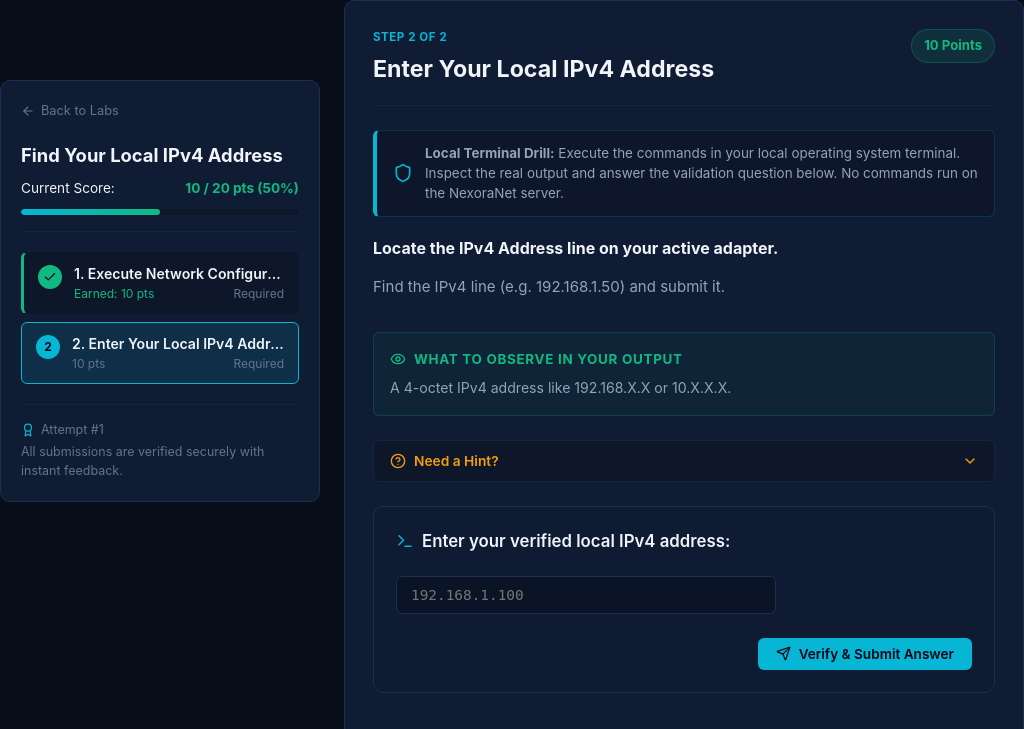
Scenario: Step 4 — Hands-on Networking Lab Engine › Pages Integration › LabDetailPage provisions workspace and submits answer
Expected: the heading "Enter Your Local IPv4 Address" is shown, [373,52,714,87]
Enter answer in input
Type "192.168.1.50" into the field with placeholder "192.168.1.100". click: {"x": 586, "y": 595}
box: [396,576,776,614]
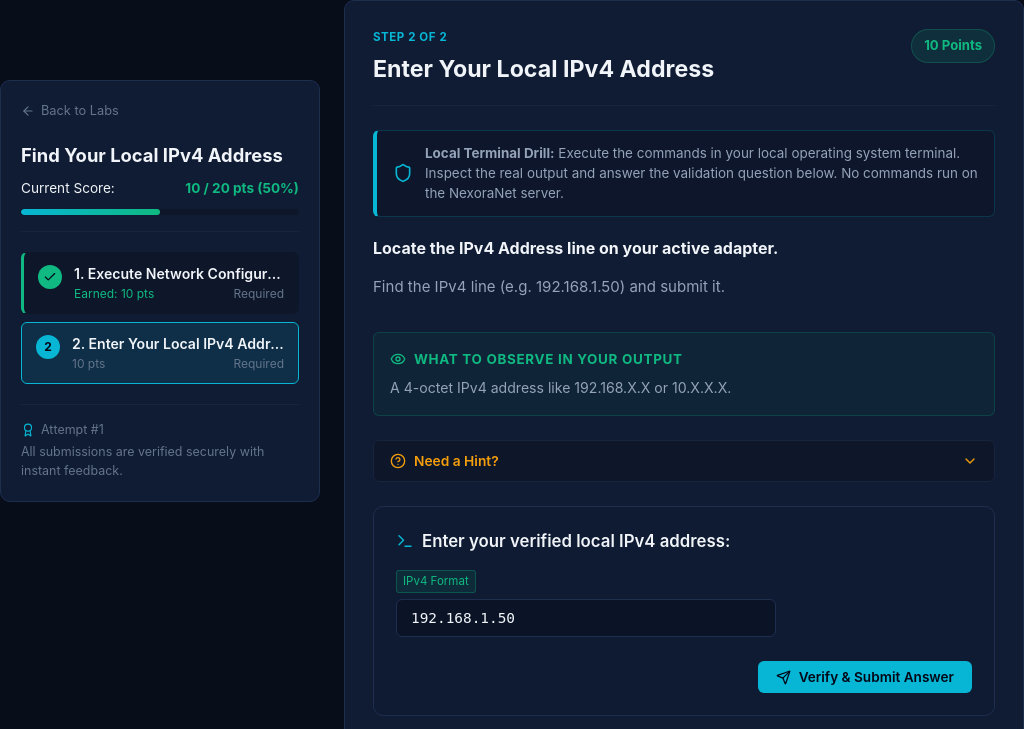
Submit an answer
Click the button "Verify & Submit Answer". click: {"x": 865, "y": 677}
box: [758,661,972,693]
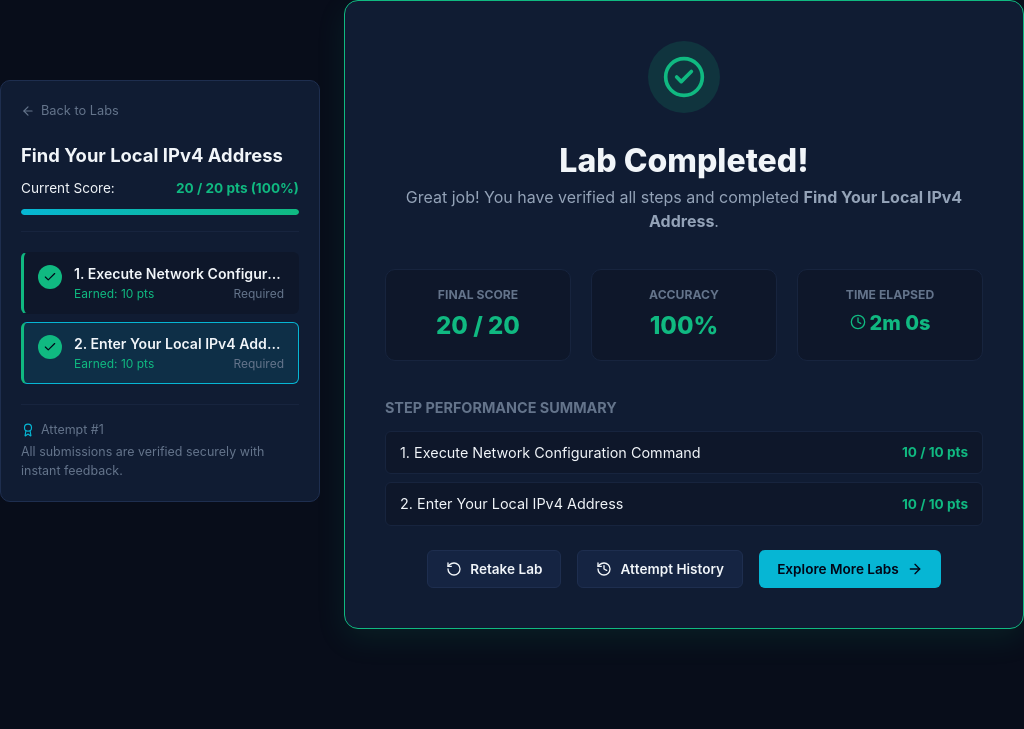
Expected: the heading "Lab Completed!" is shown, [559,141,809,180]
Expected: the text "20 / 20" is shown, [436,311,520,340]
Expected: the text "Accuracy" is shown, [649,287,719,302]
